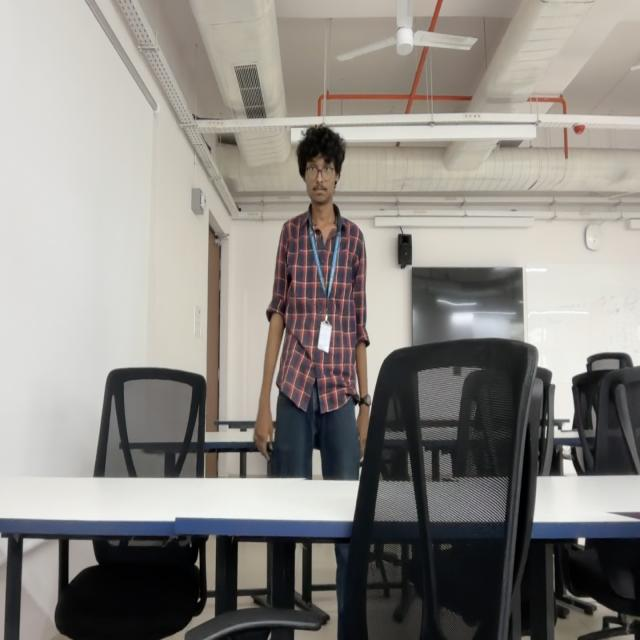darshan: (290, 124, 351, 210)
